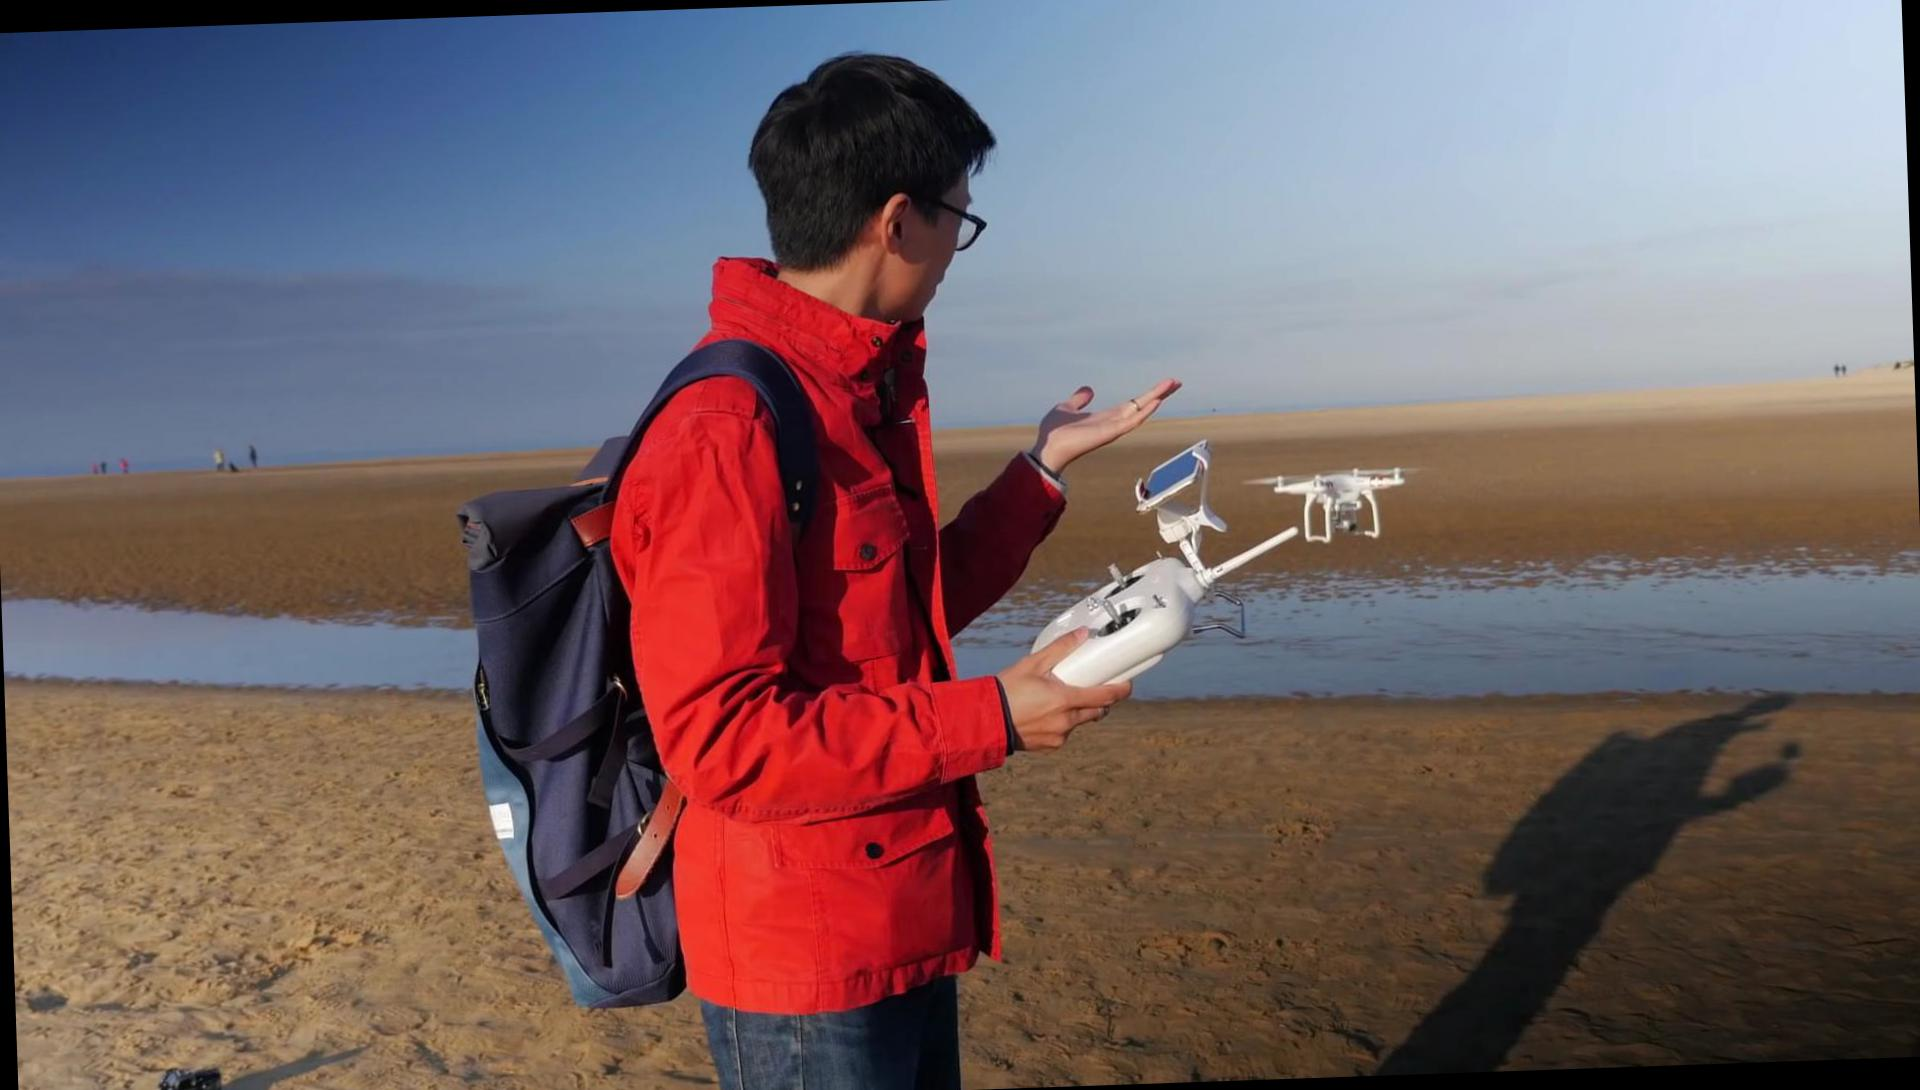drone: (1245, 456, 1431, 550)
